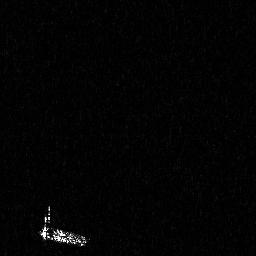ship: (34, 203, 90, 248)
